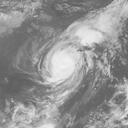cyclone: (37, 39, 90, 89)
